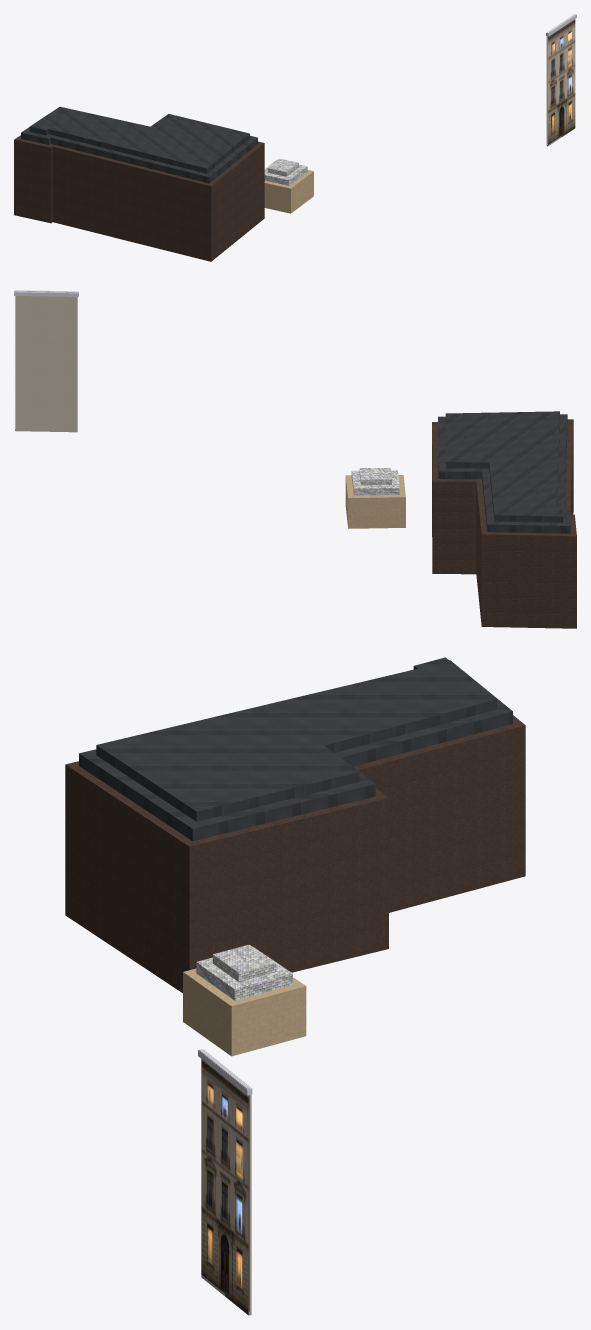
3 renders of one model, top to bottom at view 1: azimuth 30°, elevation 25°; view 2: azimuth 150°, elevation 25°; view 3: azimuth 270°, elevation 25°, orthographic. The views are drawn at different scales.
Visible parts, largest first — view 1: bldg_511535371, bldg_511535371_roof_b, bldg_512266224_facade0, bldg_511535371_roof_a, bldg_1136530544, bldg_1136530544_roof_a, bldg_1136530544_roof_b; view 2: bldg_511535371, bldg_511535371_roof_b, bldg_512266224_facade0, bldg_511535371_roof_a, bldg_1136530544, bldg_1136530544_roof_a, bldg_1136530544_roof_b; view 3: bldg_511535371, bldg_511535371_roof_b, bldg_512266224_facade0, bldg_511535371_roof_a, bldg_1136530544, bldg_1136530544_roof_a, bldg_1136530544_roof_b.
Boxes of the visible parts, x1,y1,x2,y2 form: bldg_511535371: (14,135,264,261); bldg_511535371_roof_b: (29,106,249,173); bldg_512266224_facade0: (546,14,576,146); bldg_511535371_roof_a: (21,127,257,183); bldg_1136530544: (264,170,313,213); bldg_1136530544_roof_a: (264,159,307,185); bldg_1136530544_roof_b: (267,158,298,176); bldg_511535371: (432,419,576,628); bldg_511535371_roof_b: (445,411,562,522); bldg_512266224_facade0: (14,290,78,432); bldg_511535371_roof_a: (438,414,570,533); bldg_1136530544: (345,475,405,528); bldg_1136530544_roof_a: (351,470,399,495); bldg_1136530544_roof_b: (359,468,391,485); bldg_511535371: (65,715,525,992); bldg_511535371_roof_b: (96,657,496,821); bldg_512266224_facade0: (198,1049,252,1315); bldg_511535371_roof_a: (79,660,512,841); bldg_1136530544: (183,968,306,1056); bldg_1136530544_roof_a: (196,947,292,1000); bldg_1136530544_roof_b: (212,944,276,981).
Size of the model in its own units: 67.36 by 14.34 by 26.27.
8 materials, 6 textured.
